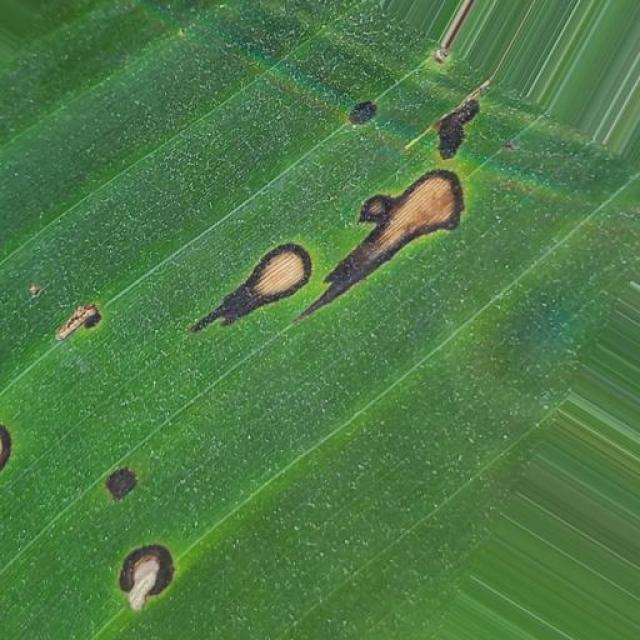Early_rust: (191, 86, 494, 358), (0, 273, 205, 613)
